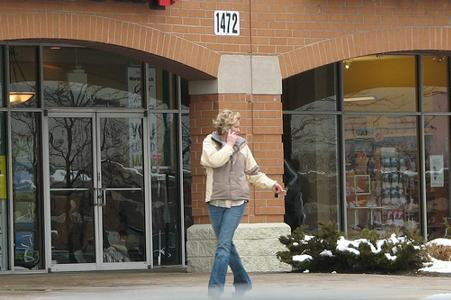person: (203, 109, 285, 300)
